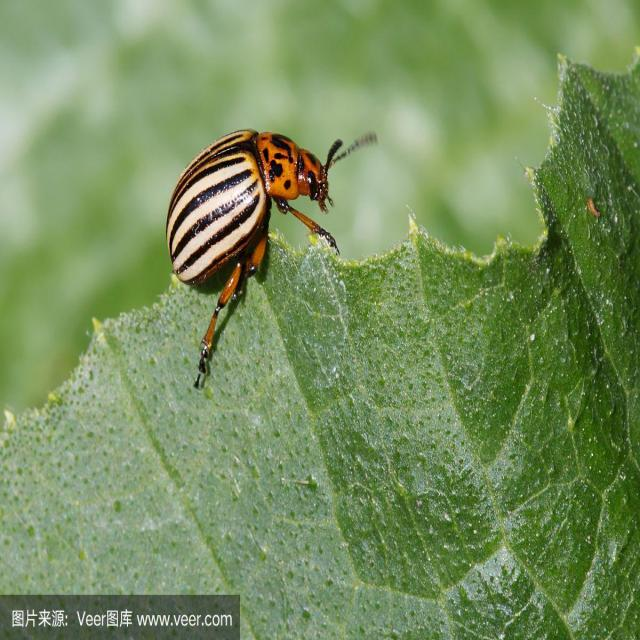ShuCaiHuaBanChong-Grown-: (160, 96, 368, 339)
